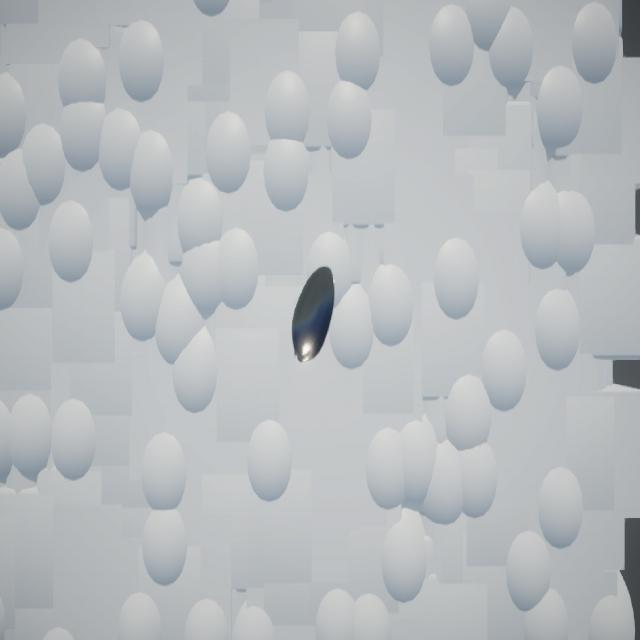top_spoon: (292, 267, 336, 363)
